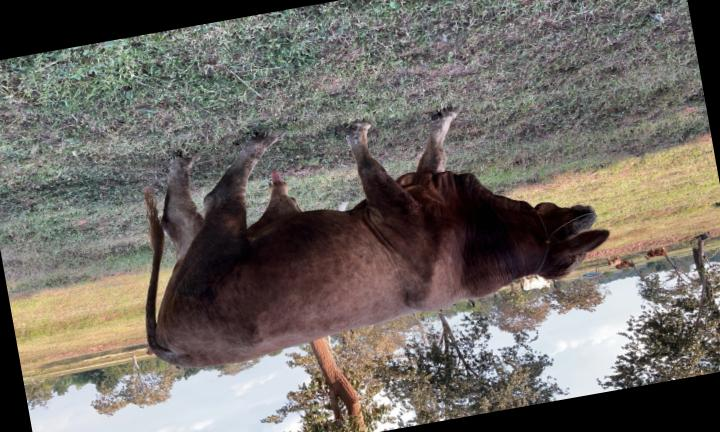Charolais: (146, 108, 609, 367)
